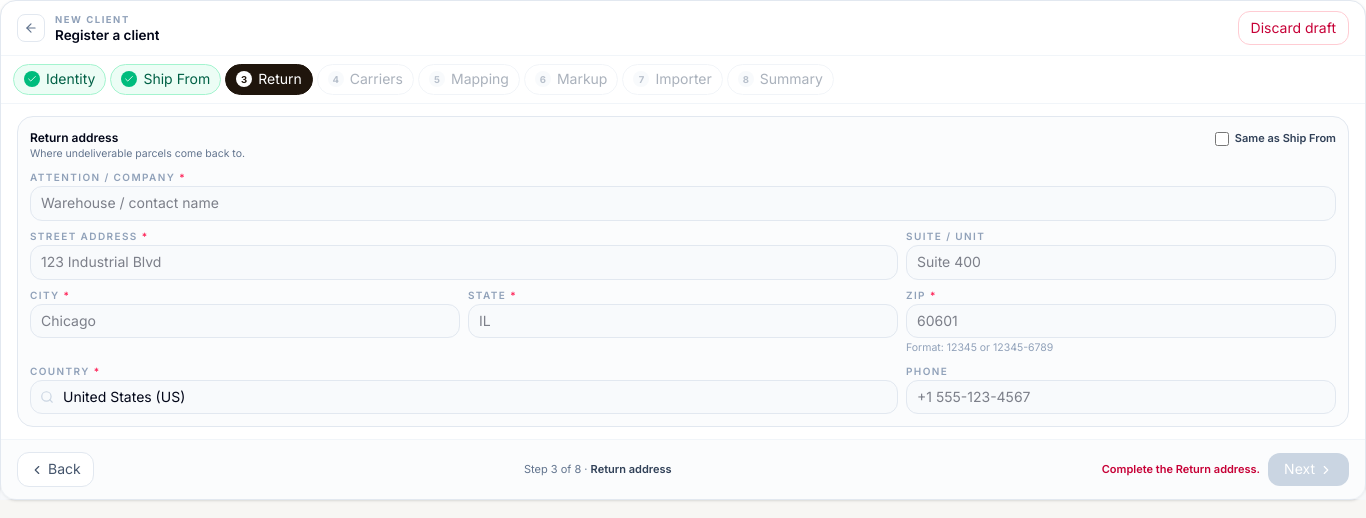
Test: ClientEditorPage · Return step · negative › same=false + empty required field → touched → inline error visible
expect the heading "Return address" is shown: met, box left=30, top=130, right=118, bottom=145
Note: Blur the city input without typing to mark it touched.
Click the field with placeholder "Chicago": (245,321) left=30, top=304, right=460, bottom=338
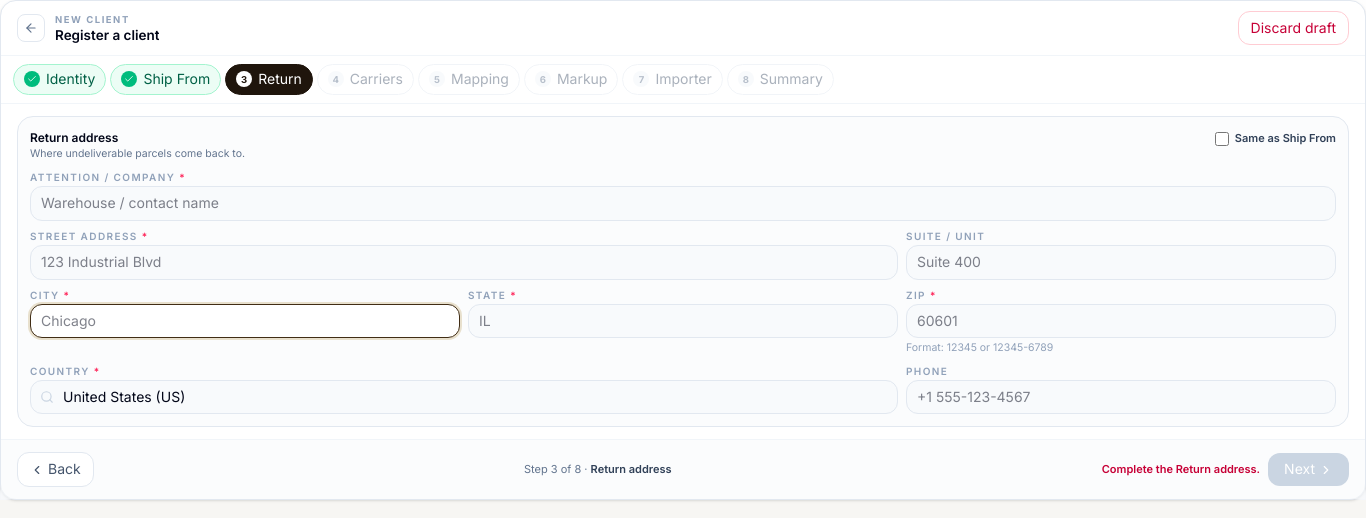
Press Tab
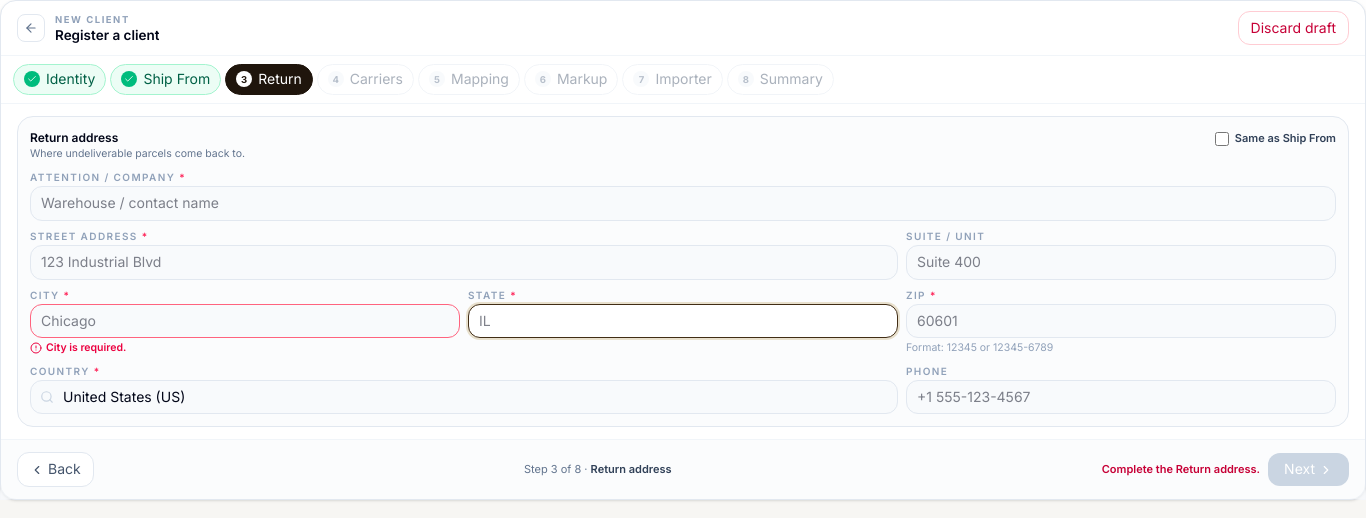
expect the text "City is required." is shown: met, box left=30, top=341, right=126, bottom=354
